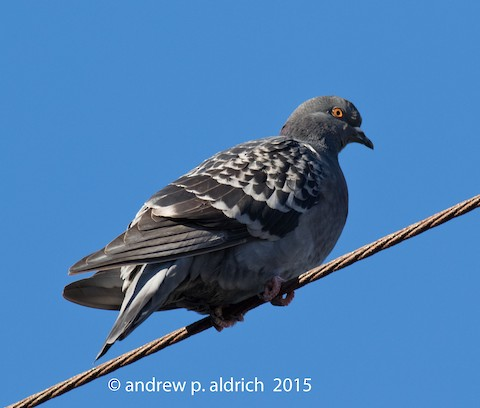pigeon: (61, 88, 380, 368)
